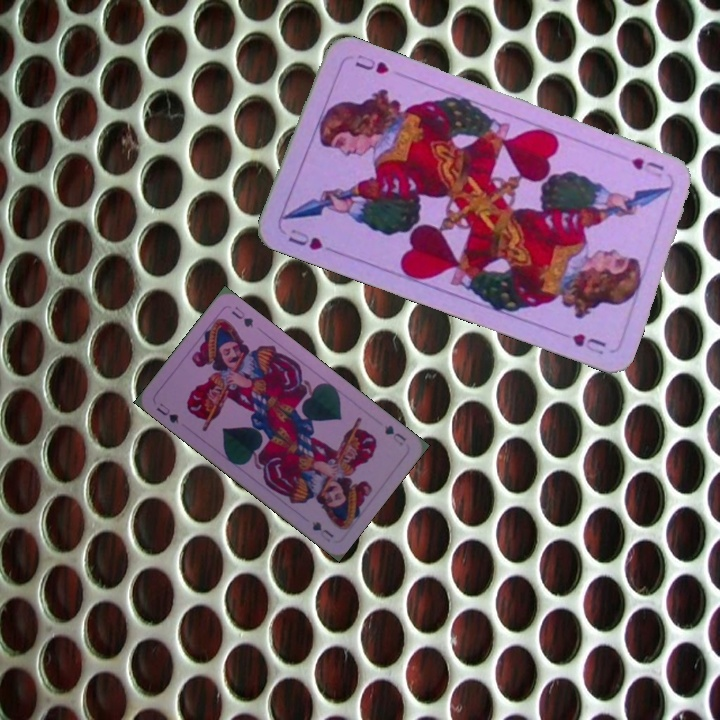GU: (152, 399, 181, 426), (380, 421, 409, 448)
HU: (284, 225, 326, 253), (627, 153, 667, 181)
